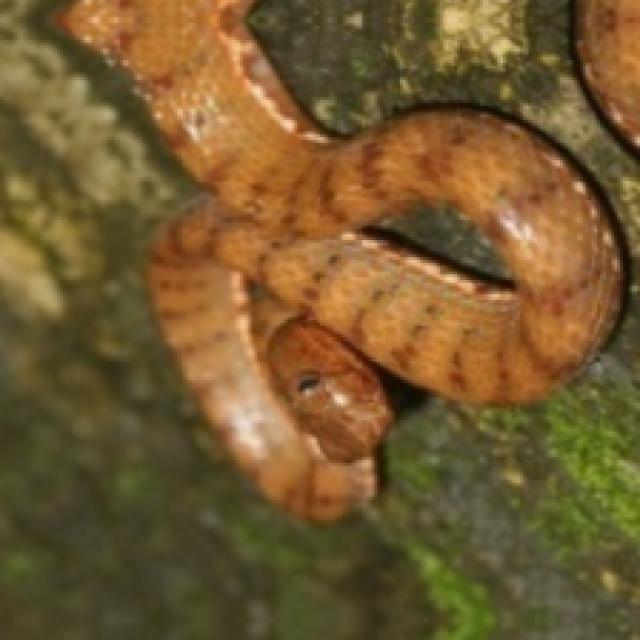philippine pitviper: (60, 0, 626, 517)
